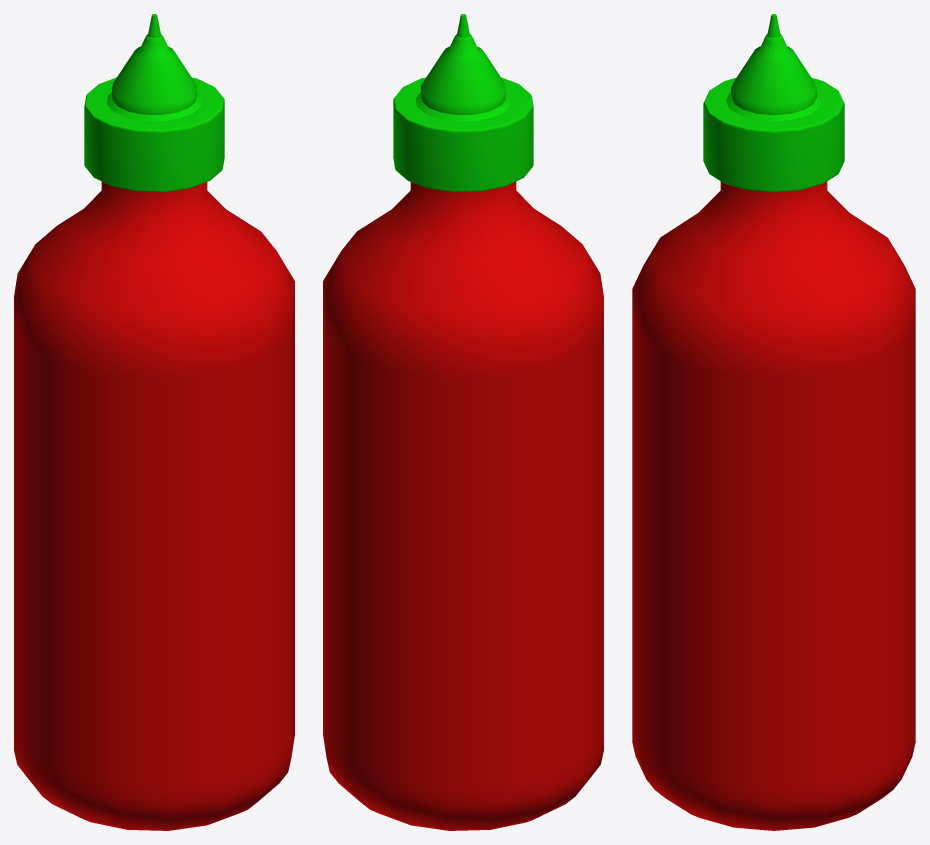
The model's file is Hot Sauce.fbx.
The picture shows the model from 3 angles, left to right: view 1: azimuth 30°, elevation 25°; view 2: azimuth 150°, elevation 25°; view 3: azimuth 270°, elevation 25°; orthographic projection.
Parts seen in each view (by area): view 1: Hot_Sauce; view 2: Hot_Sauce; view 3: Hot_Sauce.
Part boxes in pixels (bbox=[...]): Hot_Sauce: bbox=[14, 14, 294, 830]; Hot_Sauce: bbox=[323, 14, 603, 830]; Hot_Sauce: bbox=[632, 14, 915, 830].
Bounding box in the file's own units: 8.21 × 24.75 × 8.21.
